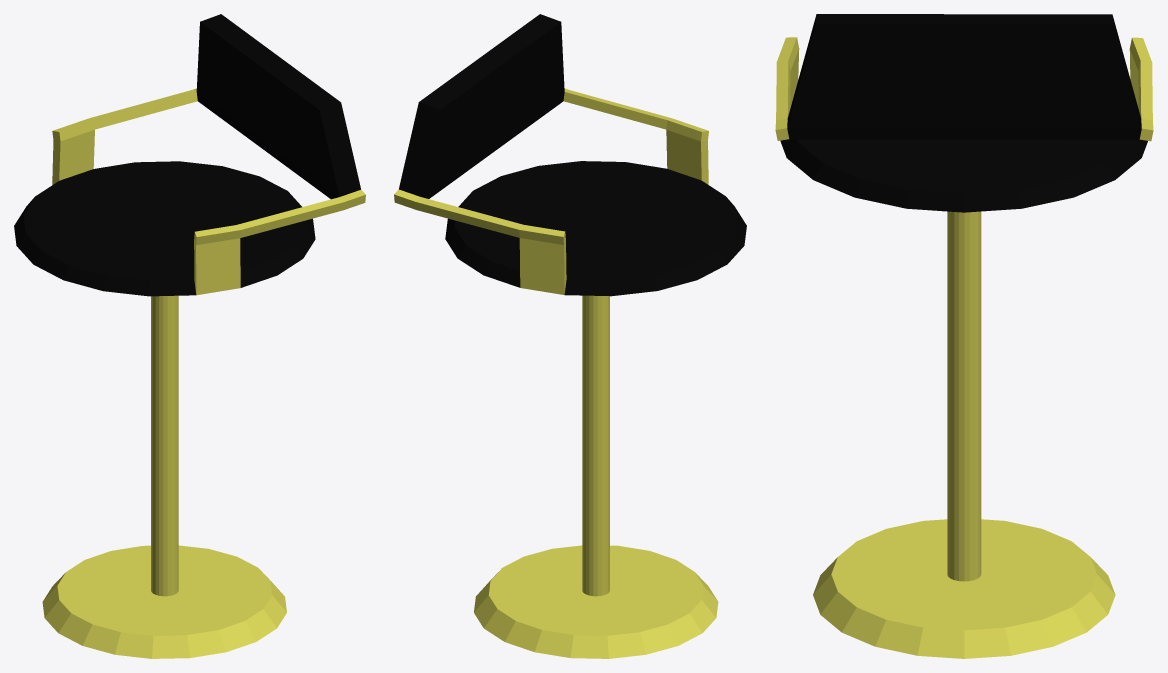
The model's file is finished_chair.fbx.
The picture shows the model from 3 angles, left to right: view 1: azimuth 30°, elevation 25°; view 2: azimuth 150°, elevation 25°; view 3: azimuth 270°, elevation 25°; orthographic projection. The views are drawn at different scales.
Visible parts, largest first — view 1: chair; view 2: chair; view 3: chair.
Part boxes in pixels (x1,y1,x2,y2): chair: (14,14,365,658); chair: (394,14,746,658); chair: (775,14,1153,658).
Size of the model in its own units: 2.47 by 4.67 by 2.5.
